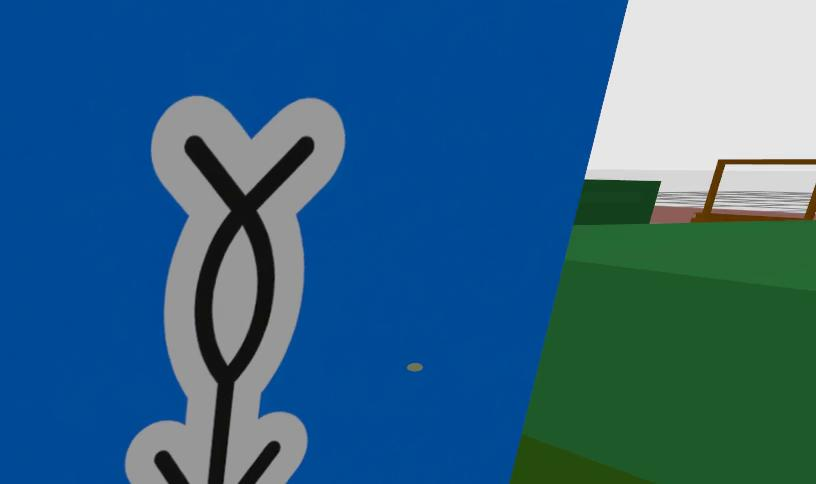KFS_REAL: (0, 0, 625, 484), (126, 96, 344, 484)
